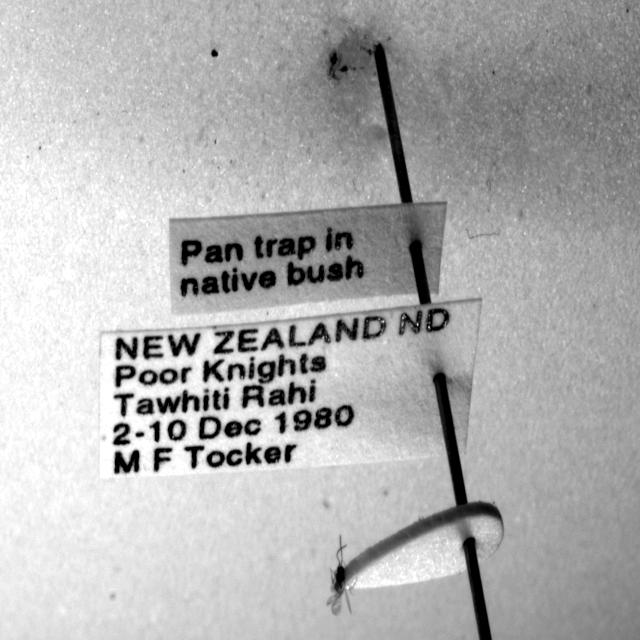typed_label: (100, 300, 481, 478), (170, 202, 446, 313)
